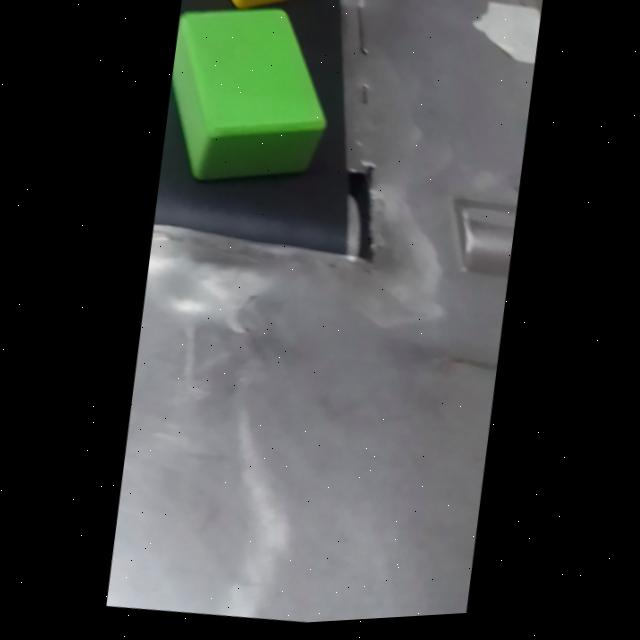greenBox: (155, 0, 361, 221)
yellowBox: (180, 0, 363, 41)
